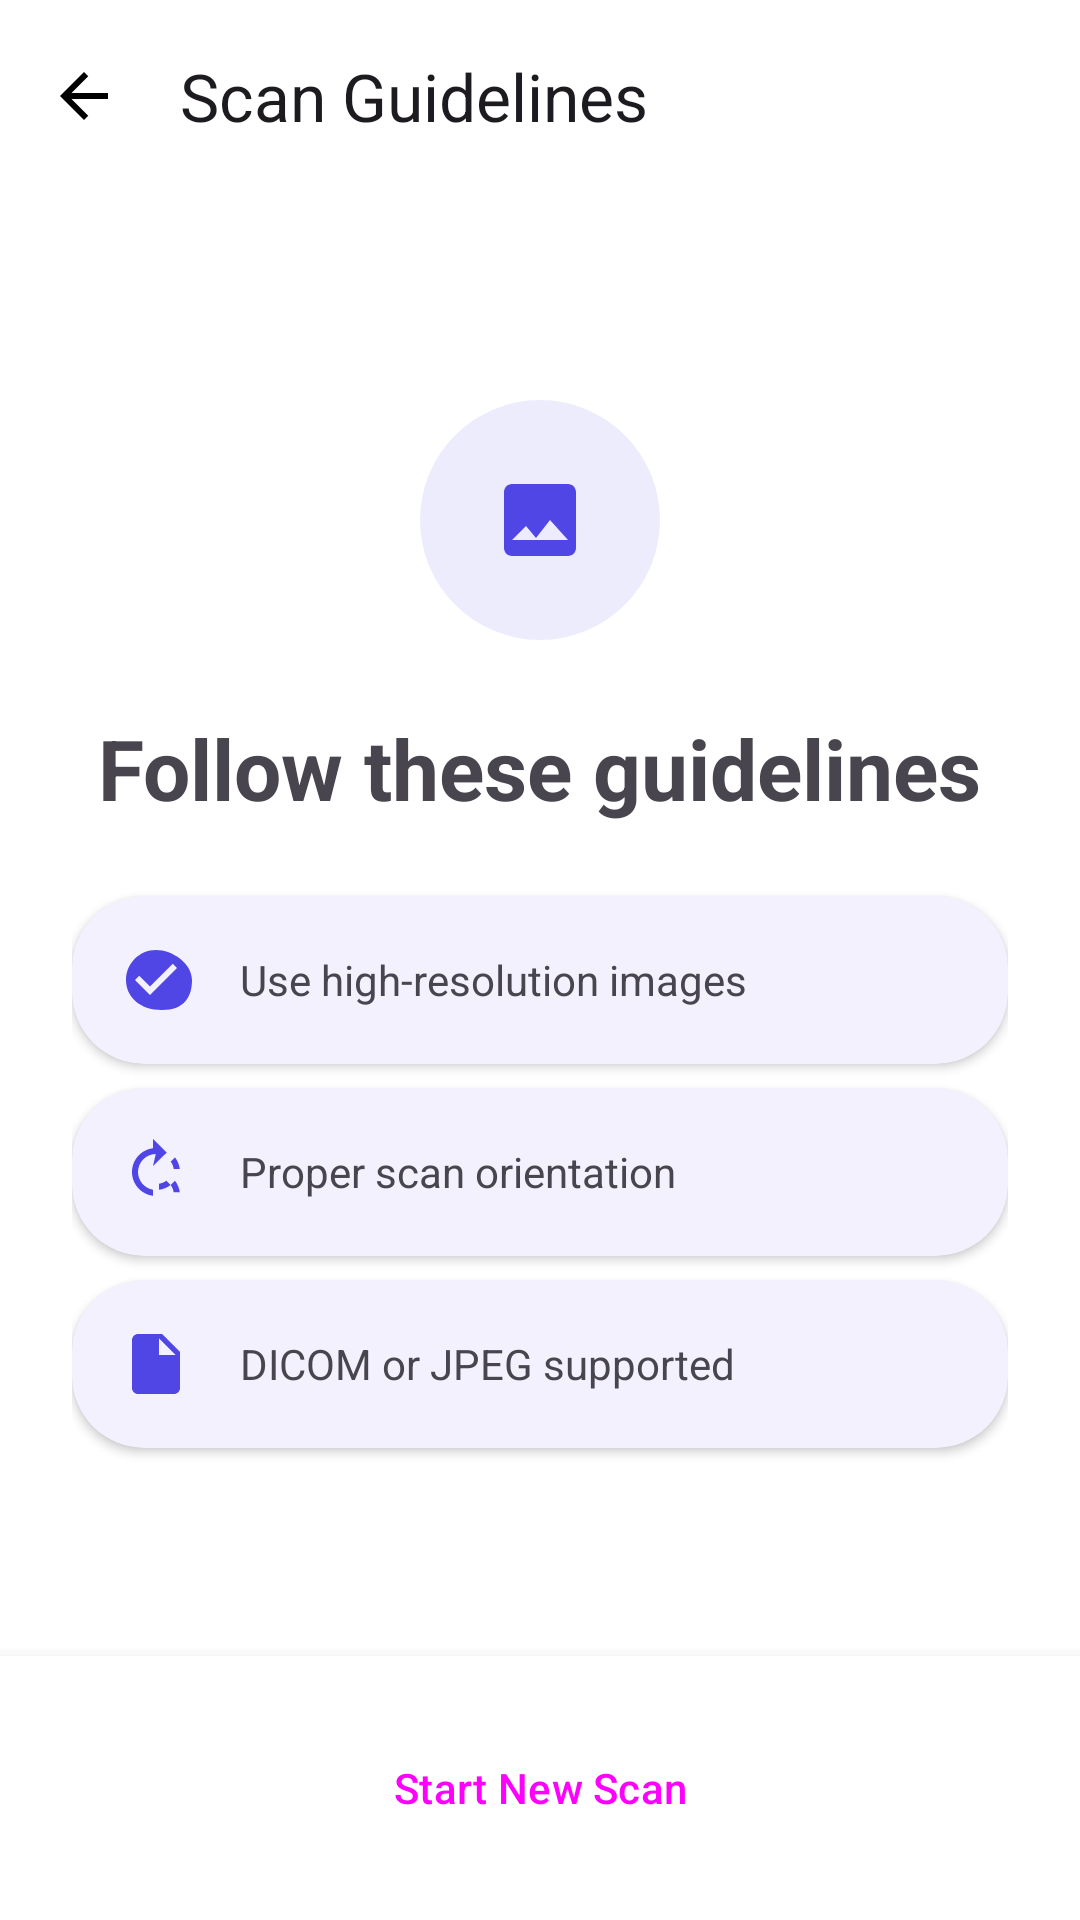

Icons on this 1080 × 1920 Android screen, each with the point to tap as (x=x, y=y):
check circle: (x=159, y=980)
file: (x=156, y=1364)
rotate: (x=156, y=1167)
